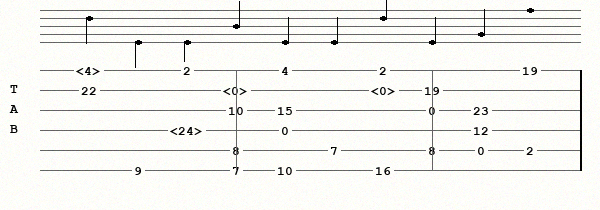0: (281, 124, 293, 136), (428, 104, 440, 116), (477, 144, 489, 156)
10: (228, 104, 248, 116), (277, 164, 297, 176)
12: (473, 124, 493, 136)
15: (277, 104, 297, 116)
16: (375, 164, 395, 176)
19: (424, 84, 444, 96), (522, 64, 542, 76)
2: (183, 64, 195, 76), (379, 64, 391, 76), (526, 144, 538, 156)
22: (81, 84, 101, 96)
23: (473, 104, 493, 116)
4: (281, 64, 293, 76)
7: (232, 164, 244, 176), (330, 144, 342, 156)
8: (232, 144, 244, 156), (428, 144, 440, 156)
9: (134, 164, 146, 176)
harmonic: (170, 124, 207, 136), (76, 64, 105, 76), (223, 84, 252, 96), (371, 84, 400, 96)
